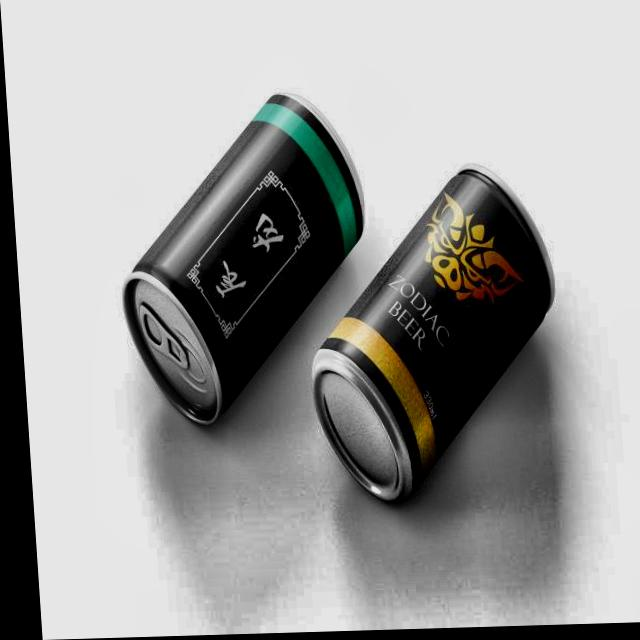can: (289, 158, 570, 514), (100, 80, 380, 436)
